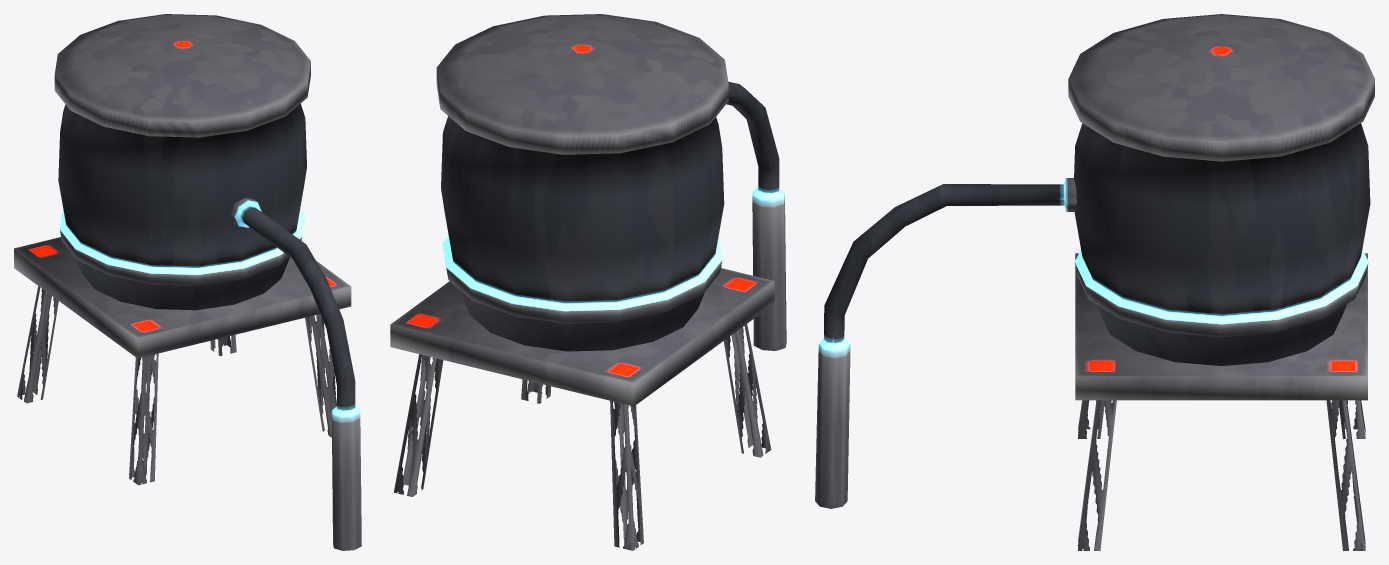
Rendered from Watertank.fbx.
The picture shows the model from 3 angles, left to right: view 1: azimuth 30°, elevation 25°; view 2: azimuth 150°, elevation 25°; view 3: azimuth 270°, elevation 25°; orthographic projection. The views are drawn at different scales.
Visible parts, largest first — view 1: Watertank; view 2: Watertank; view 3: Watertank.
Part boxes in pixels (bbox=[...]): Watertank: bbox=[14, 14, 361, 550]; Watertank: bbox=[390, 14, 786, 550]; Watertank: bbox=[815, 14, 1374, 550].
Bounding box in the file's own units: 885 × 1440 × 1617.
